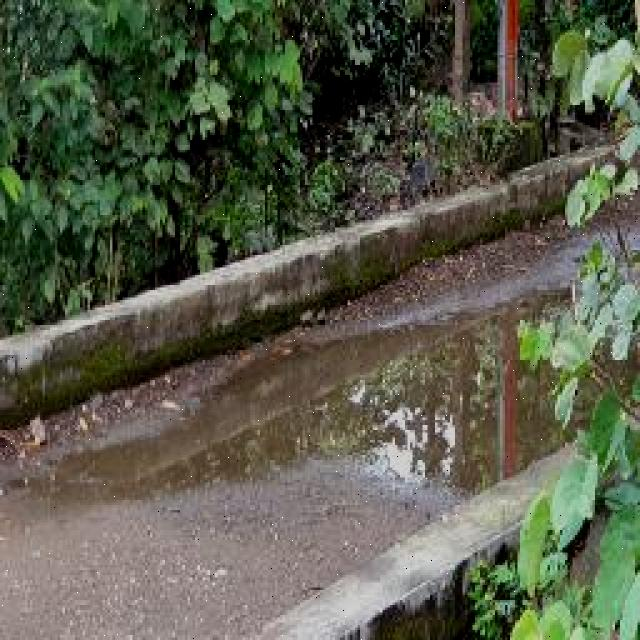stagnation: (58, 301, 522, 489)
